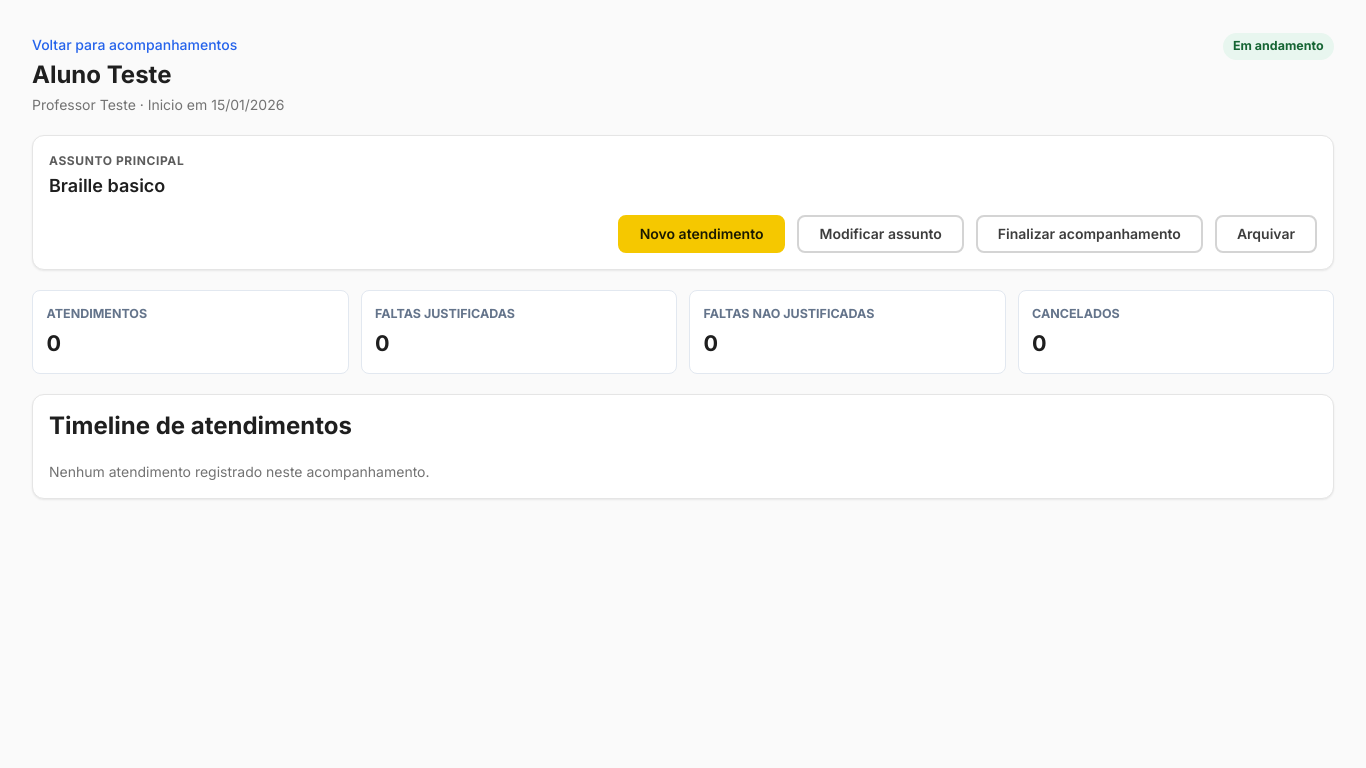
DetalheAcompanhamentoComponent › deve exibir dialogo de confirmacao ao clicar em Arquivar
Step 1. Click the button "Arquivar" → (1266, 234), box top-left (1215, 215), bottom-right (1317, 253)
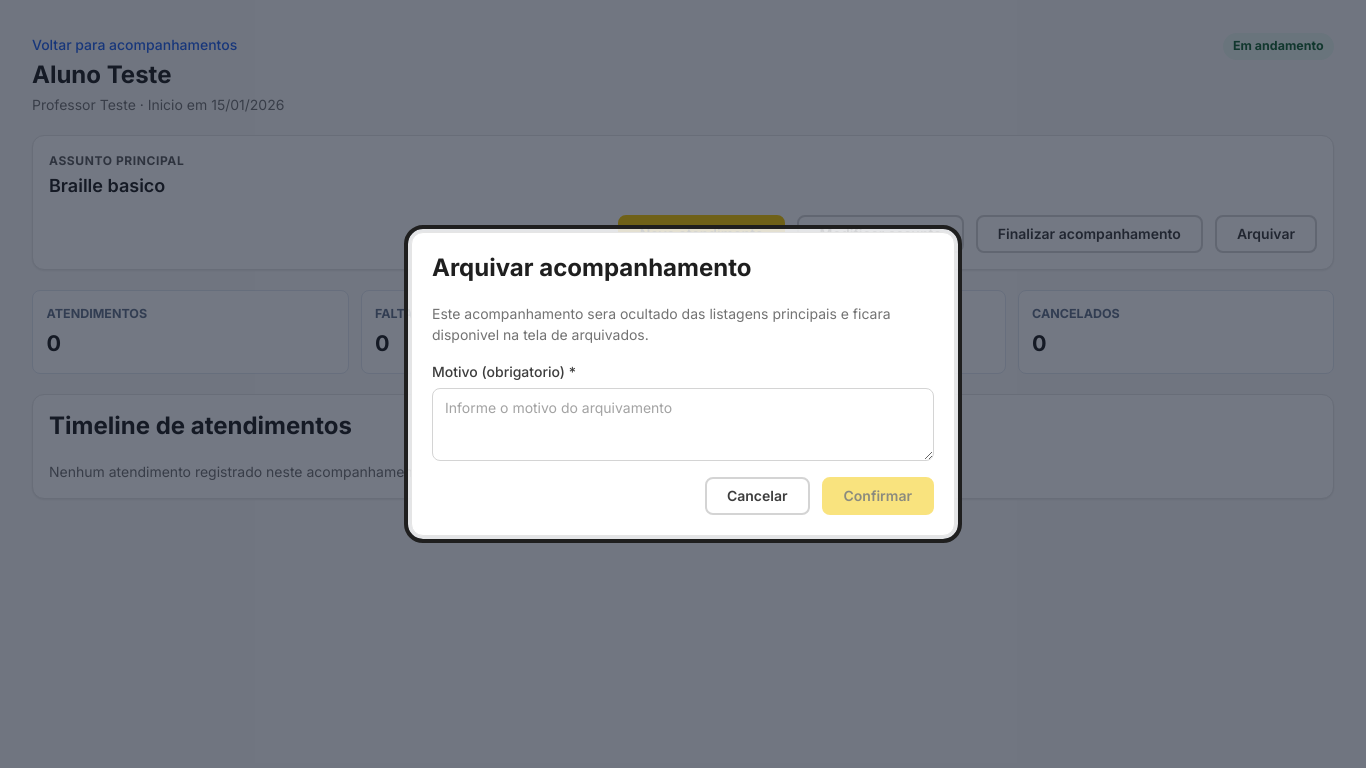
Check: the dialog is shown, box top-left (411, 232), bottom-right (955, 536)
Check: the dialog shows "Arquivar acompanhamento", box top-left (432, 253), bottom-right (751, 282)
